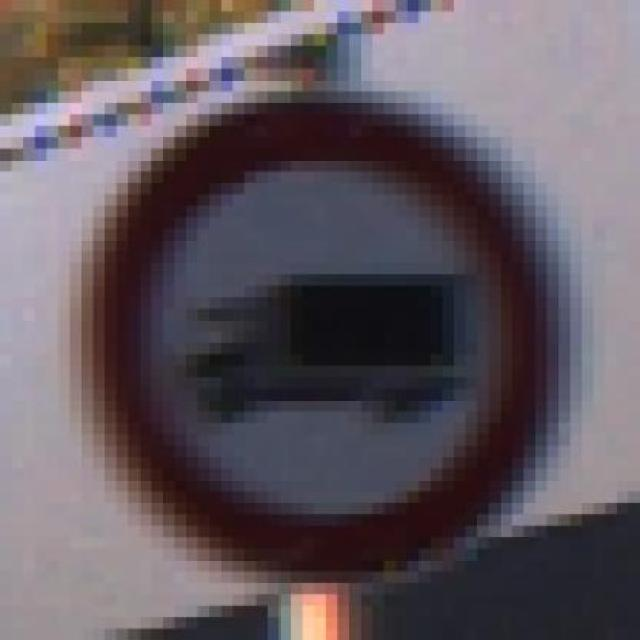Truck traffic is prohibited: (44, 59, 591, 608)
